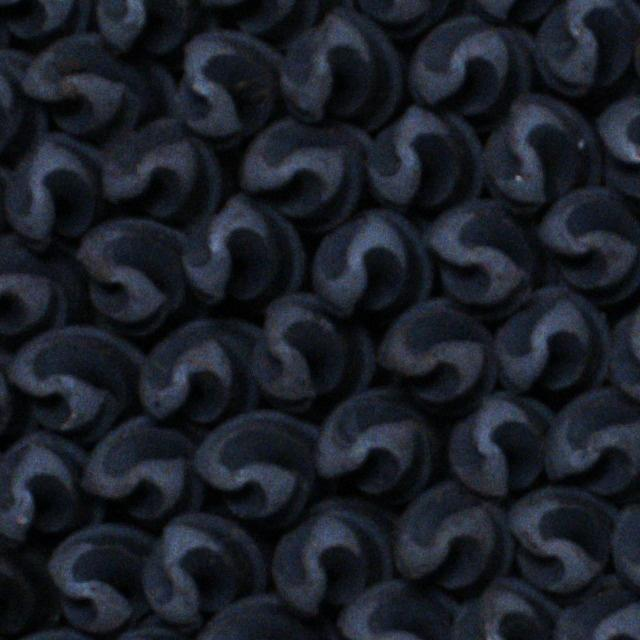tool_b: (20, 33, 174, 137), (7, 326, 148, 438), (238, 117, 371, 230), (273, 500, 399, 618), (422, 197, 550, 313), (281, 10, 405, 129), (249, 294, 374, 412), (193, 409, 322, 521), (411, 16, 536, 131), (144, 514, 268, 629), (182, 192, 307, 306), (484, 94, 604, 212), (377, 298, 497, 412), (390, 482, 512, 592), (314, 388, 433, 500), (138, 316, 262, 422), (76, 220, 190, 334), (493, 288, 612, 397), (312, 211, 433, 318), (80, 418, 202, 522), (172, 31, 282, 144), (367, 106, 485, 211), (98, 118, 221, 218), (536, 185, 640, 302), (505, 488, 617, 596), (3, 132, 105, 247), (445, 392, 555, 498), (46, 524, 152, 632), (1, 433, 104, 541), (544, 387, 640, 497), (534, 0, 640, 97), (0, 235, 85, 340), (336, 580, 461, 640), (192, 594, 346, 640), (193, 0, 350, 44), (451, 579, 564, 640), (0, 528, 59, 638), (88, 0, 215, 51), (0, 50, 47, 168), (554, 575, 640, 639), (595, 91, 640, 207), (341, 0, 472, 36), (1, 0, 95, 41), (0, 335, 33, 451), (610, 286, 640, 408), (612, 486, 640, 600), (462, 0, 580, 21)
